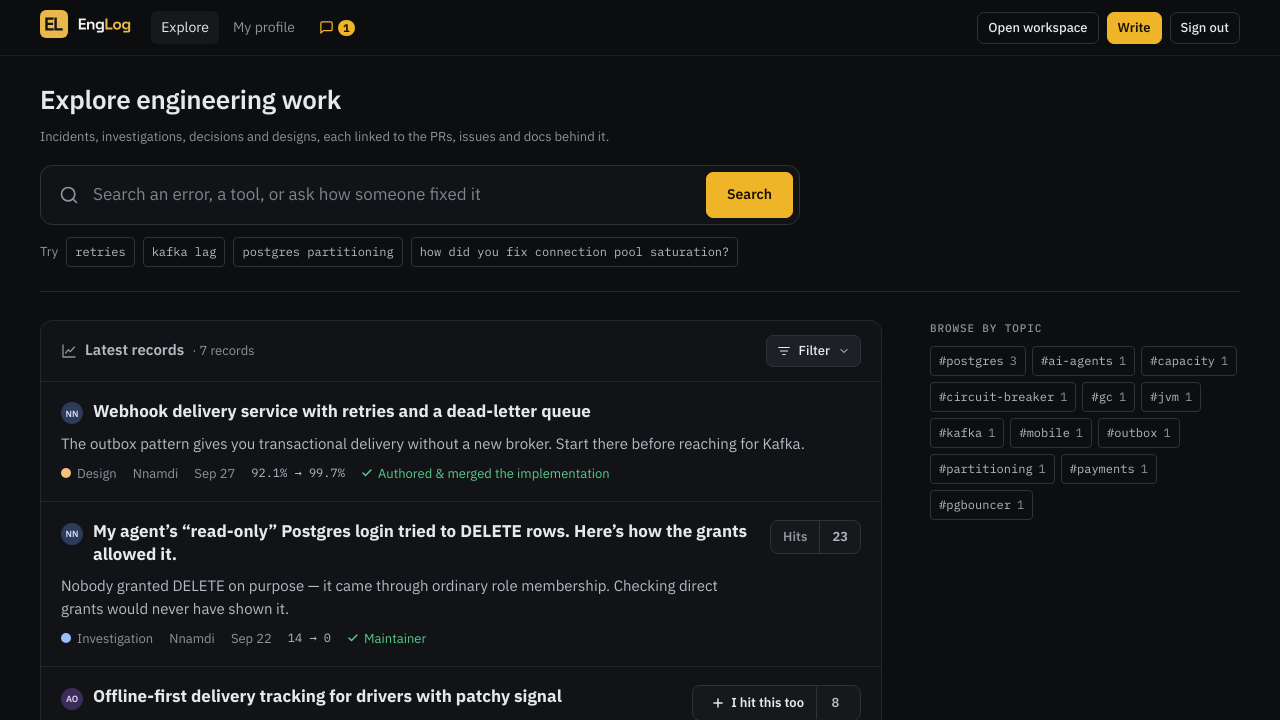
it: public landing page › searches and filters, then opens a post
Type "retries" into the search field named "Search public records" at (392, 195), box left=91, top=172, right=694, bottom=218
Then press Enter
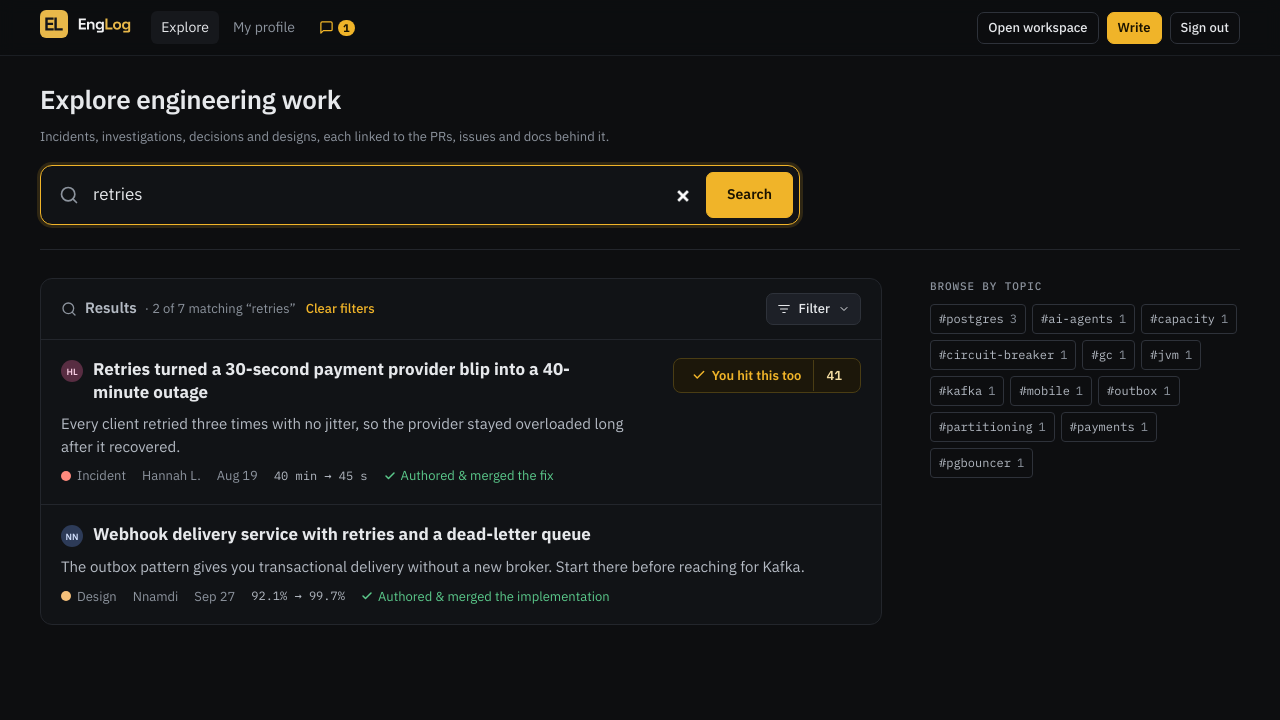
Result: the text "· 2 of 7 matching “retries”" is shown at left=145, top=299, right=296, bottom=318
Result: the headings read "Retries turned a 30-second payment provider blip into a 40-minute outage", "Webhook delivery service with retries and a dead-letter queue", in this order at left=93, top=358, right=653, bottom=404; left=93, top=523, right=591, bottom=546
Click the button "Clear filters" at (340, 309), box left=304, top=295, right=377, bottom=322
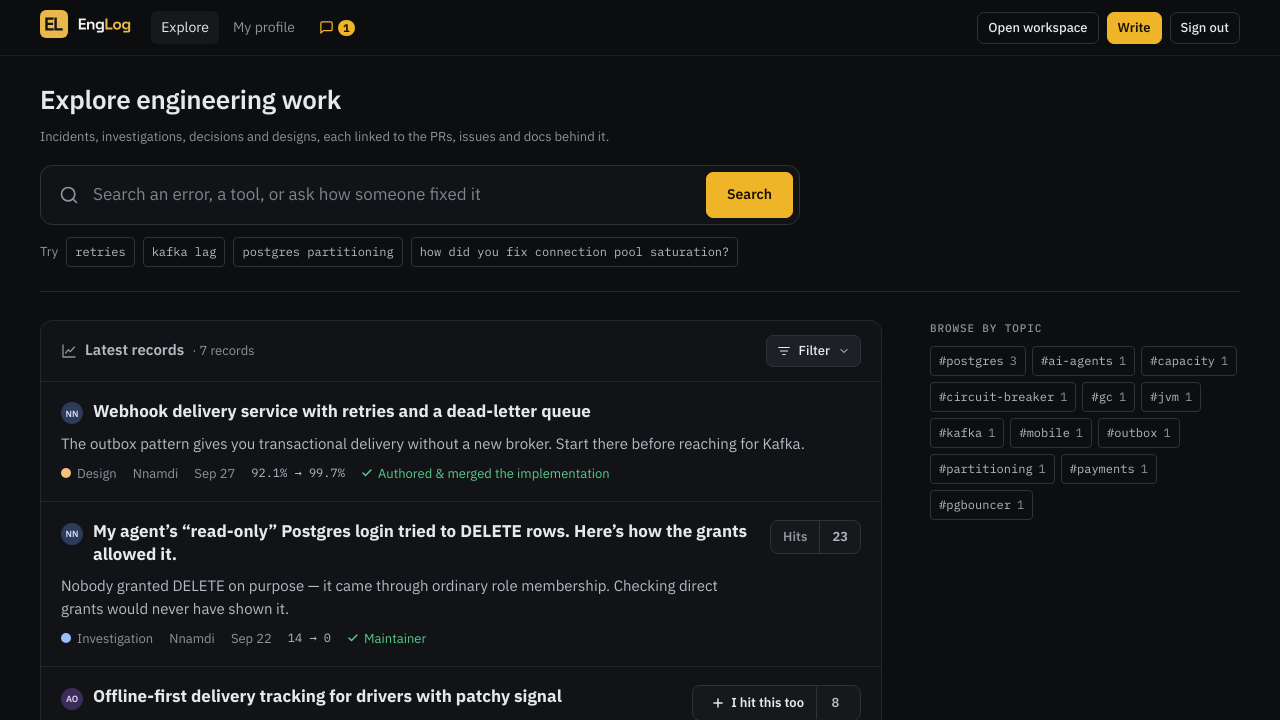
Click the button "Filter" at (813, 351), box left=766, top=335, right=861, bottom=367
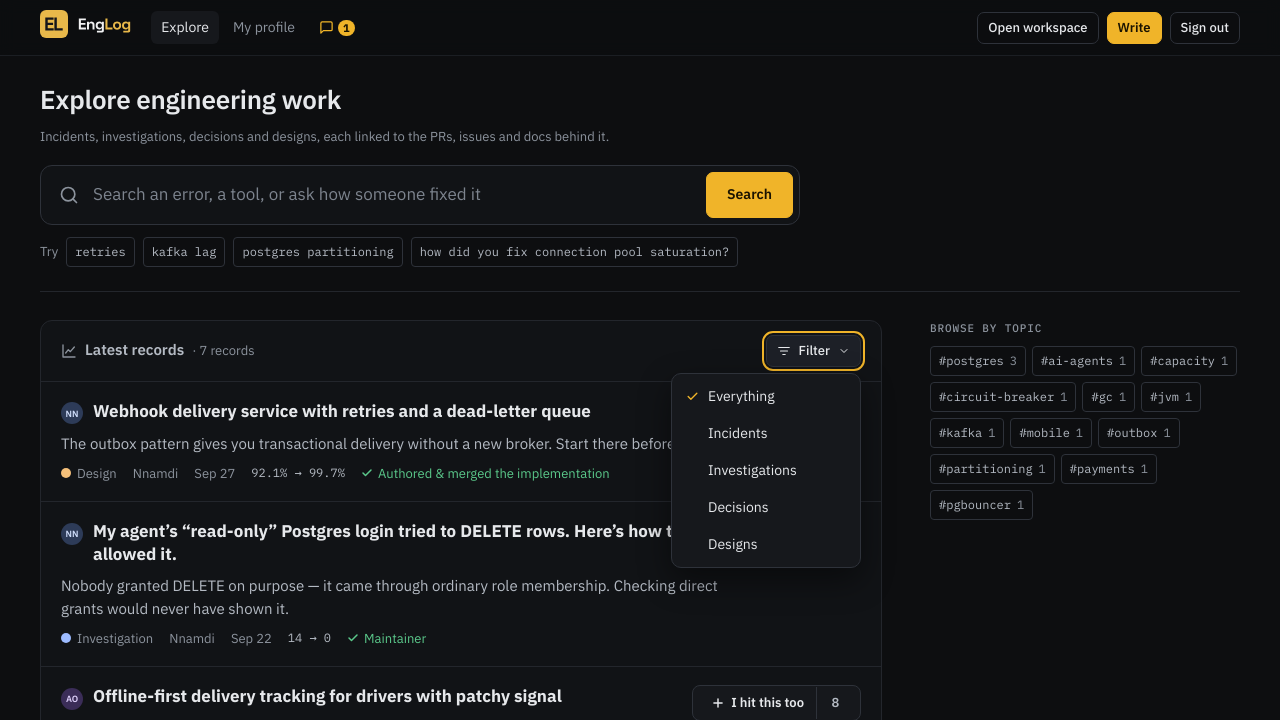
Click the button "Designs" at (766, 544), box left=676, top=526, right=856, bottom=563
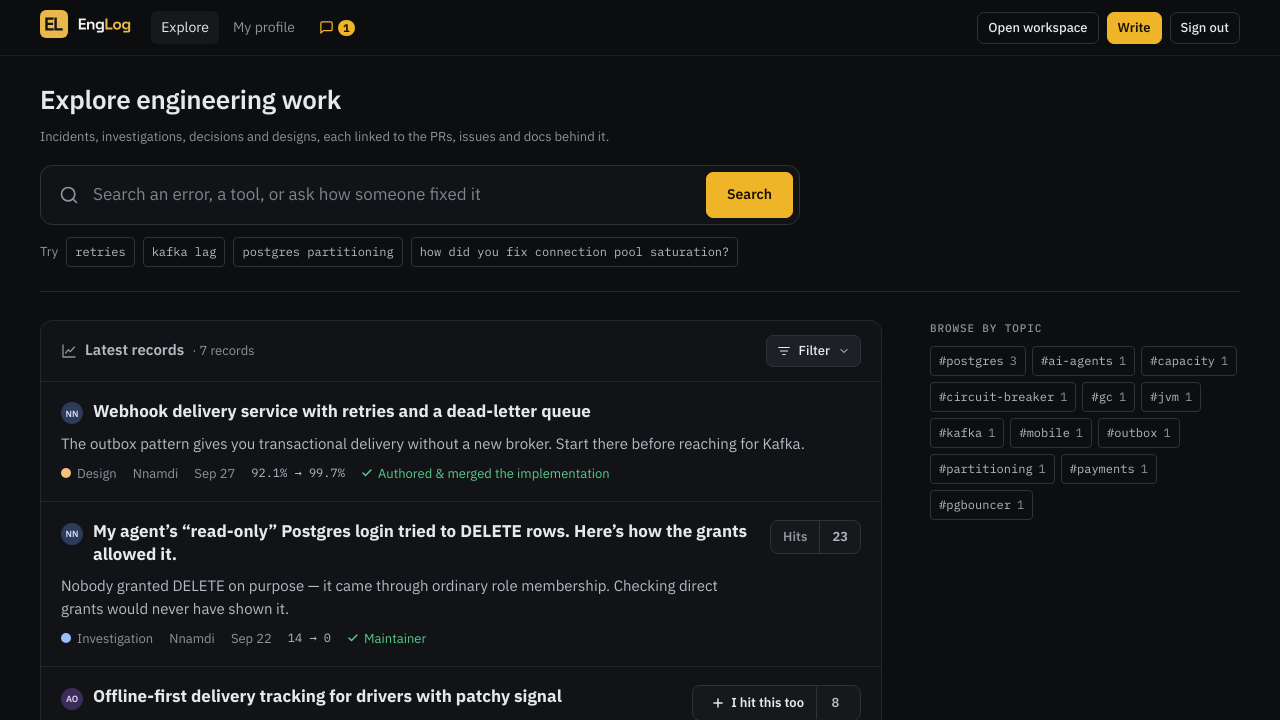
Expected: the button named "Designs" is shown, left=766, top=335, right=861, bottom=367
Expected: the text "Design" is shown, left=61, top=464, right=117, bottom=483
Click the link "Offline-first delivery tracking" at (327, 696), box left=93, top=685, right=562, bottom=707
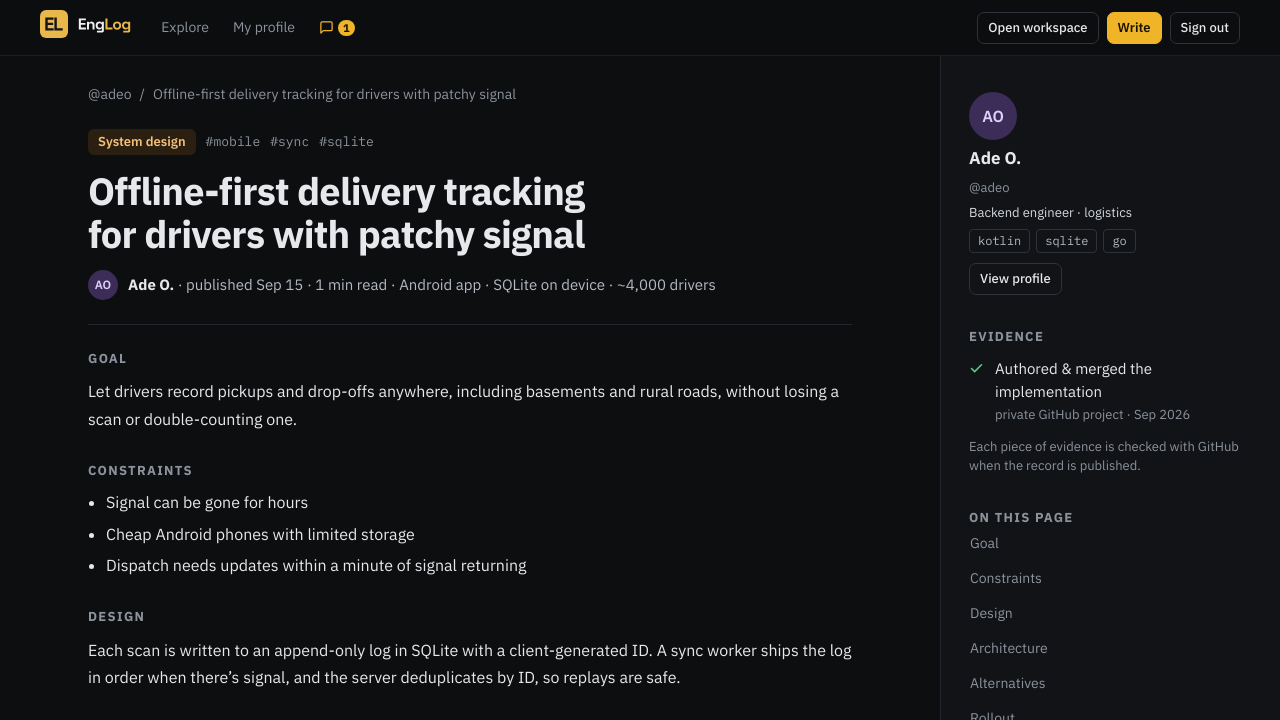
Result: the 2nd heading shows "Offline-first delivery tracking" at left=88, top=166, right=585, bottom=258
